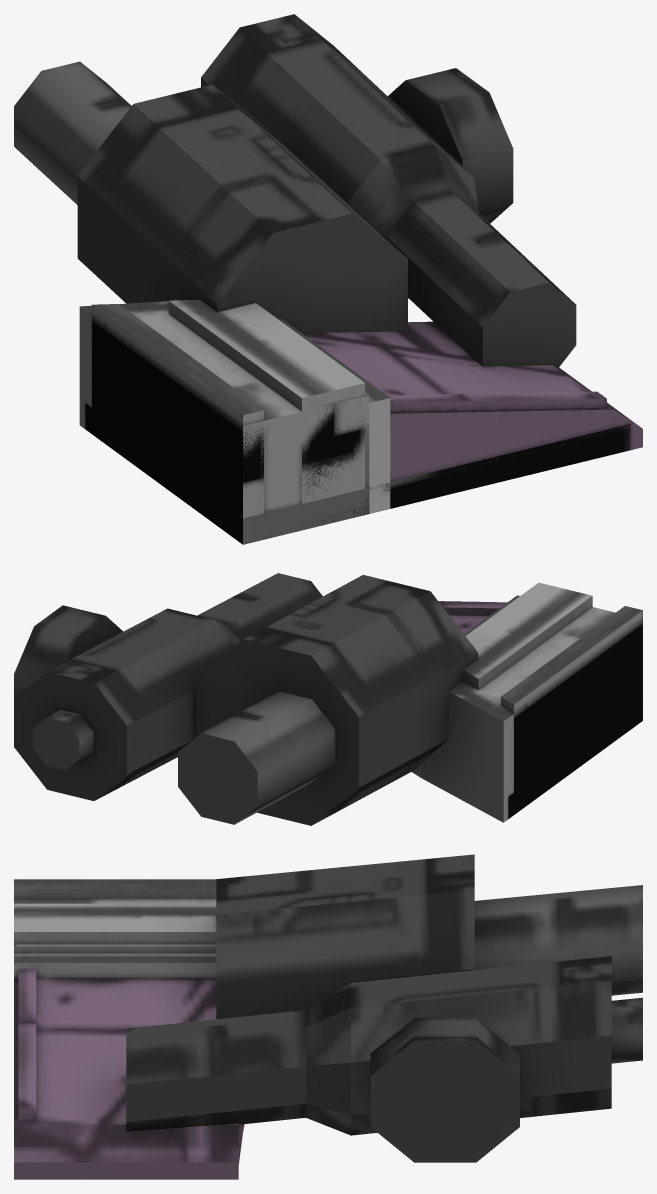
The model's file is newshb-85.glb.
3 views of the same model, one above another, from view 1: azimuth 30°, elevation 25°; view 2: azimuth 150°, elevation 25°; view 3: azimuth 270°, elevation 25° (orthographic). The views are drawn at different scales.
Visible parts, largest first — view 1: newshb-85; view 2: newshb-85; view 3: newshb-85.
Part boxes in pixels (x1,y1,x2,y2): newshb-85: (14, 14, 642, 544); newshb-85: (14, 573, 642, 825); newshb-85: (14, 854, 642, 1179).
Size of the model in its own units: 1.83 by 0.8557 by 2.33.
6 materials, 6 textured.
